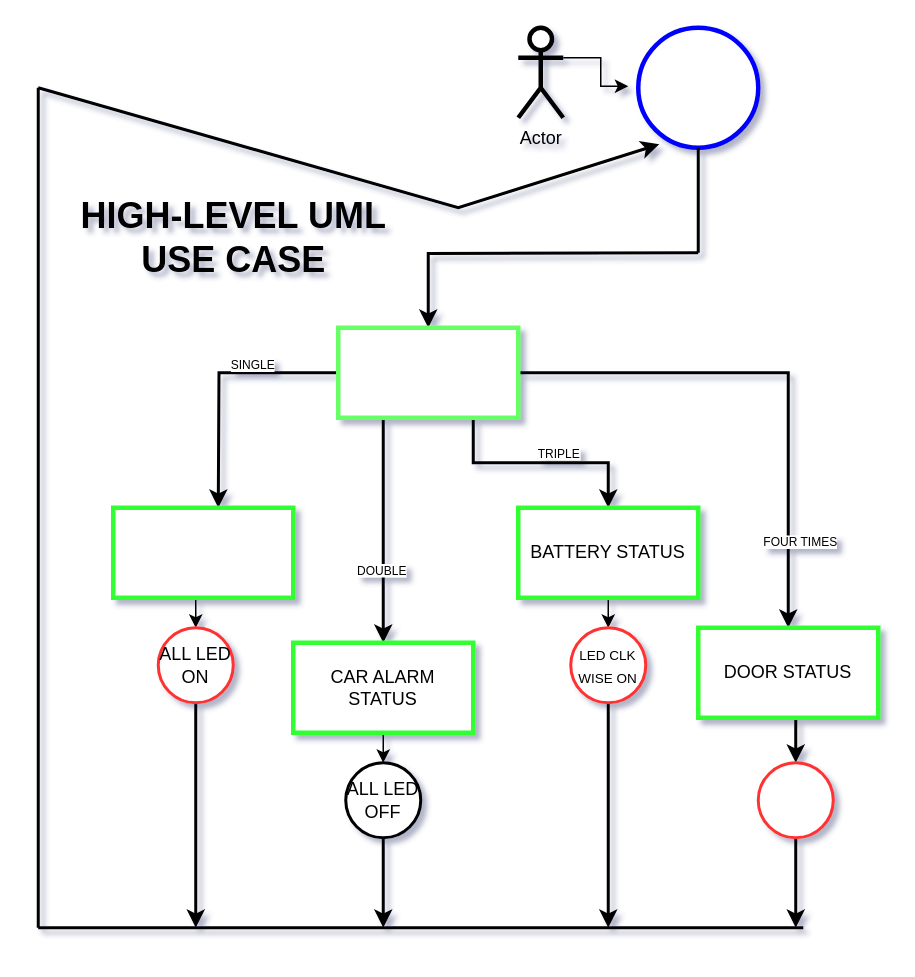
Image size: 915x977. Some labels were removed from this diagram. Each missing label, with the centre of its shape:
"BLUE BUTTON PRESS" goes at pixel 697 87.
"CAR WINDOW STATUS" goes at pixel 202 552.
"INPUT TYPE (SINGLE,DOUBLE. TRIPLE, FOUR.)" goes at pixel 427 372.
"LED ANTI-CLK WISE ON" goes at pixel 795 799.
